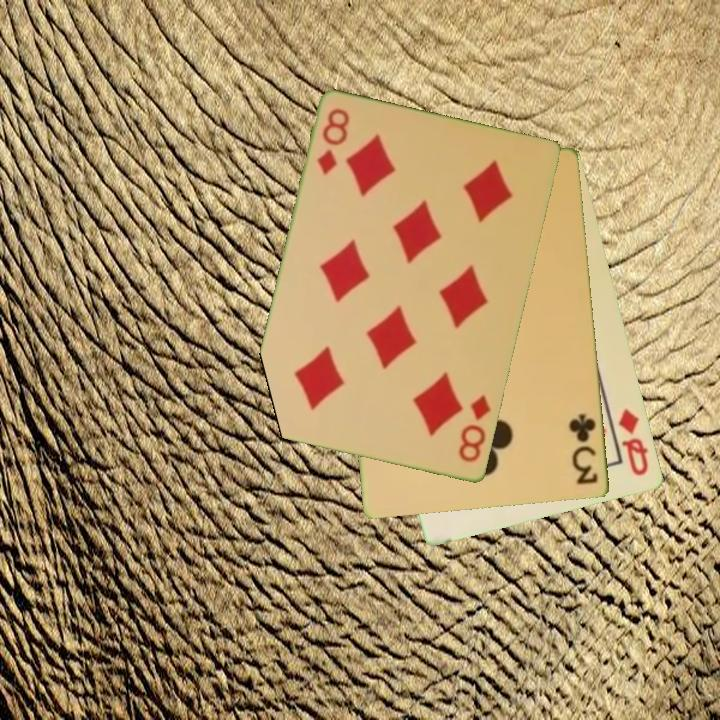3c: (566, 410, 601, 488)
8d: (455, 391, 494, 466), (314, 105, 353, 178)
Qd: (615, 405, 652, 479)
